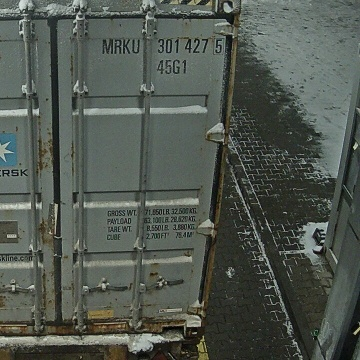serial_id: (101, 38, 222, 54)
